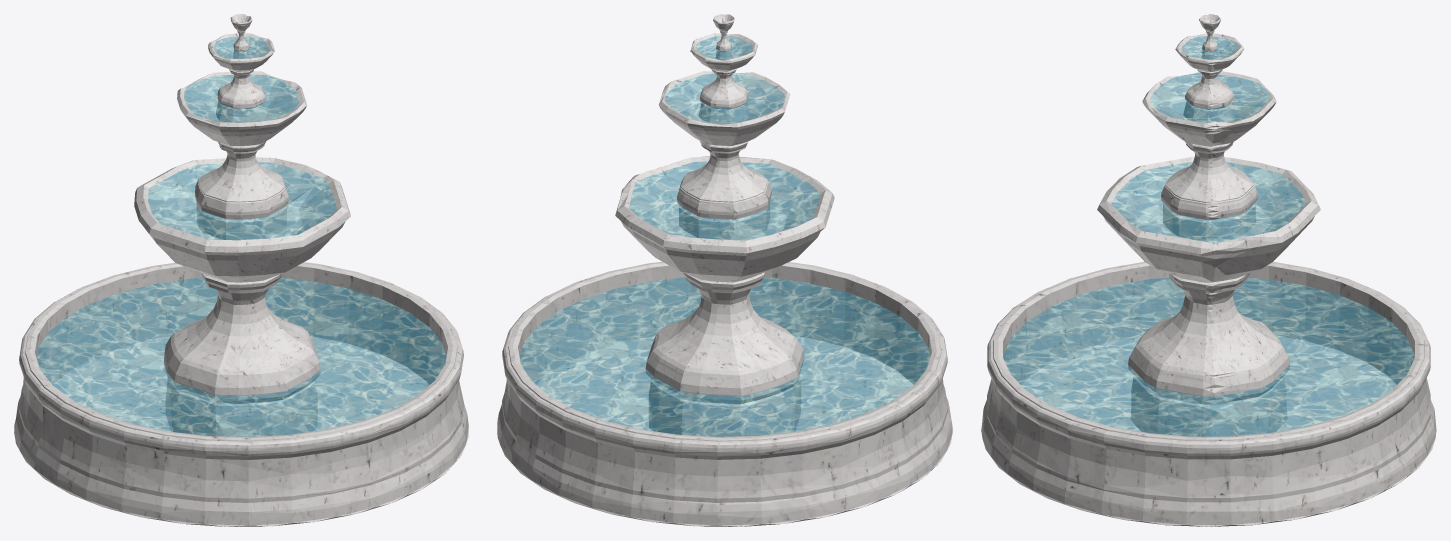
The model's file is sh-bsby-fountain.glb.
3 renders of one model, left to right at view 1: azimuth 30°, elevation 25°; view 2: azimuth 150°, elevation 25°; view 3: azimuth 270°, elevation 25°, orthographic.
Parts seen in each view (by area): view 1: NurbsPath_Mesh, Circle.004; view 2: NurbsPath_Mesh, Circle.004; view 3: NurbsPath_Mesh, Circle.004.
Part boxes in pixels (bbox=[...]): NurbsPath_Mesh: bbox=[14, 14, 468, 526]; Circle.004: bbox=[36, 36, 446, 436]; NurbsPath_Mesh: bbox=[497, 14, 952, 526]; Circle.004: bbox=[519, 35, 929, 436]; NurbsPath_Mesh: bbox=[981, 14, 1436, 526]; Circle.004: bbox=[1003, 36, 1414, 436].
Size of the model in its own units: 1 by 1 by 1.
2 materials, 2 textured.
